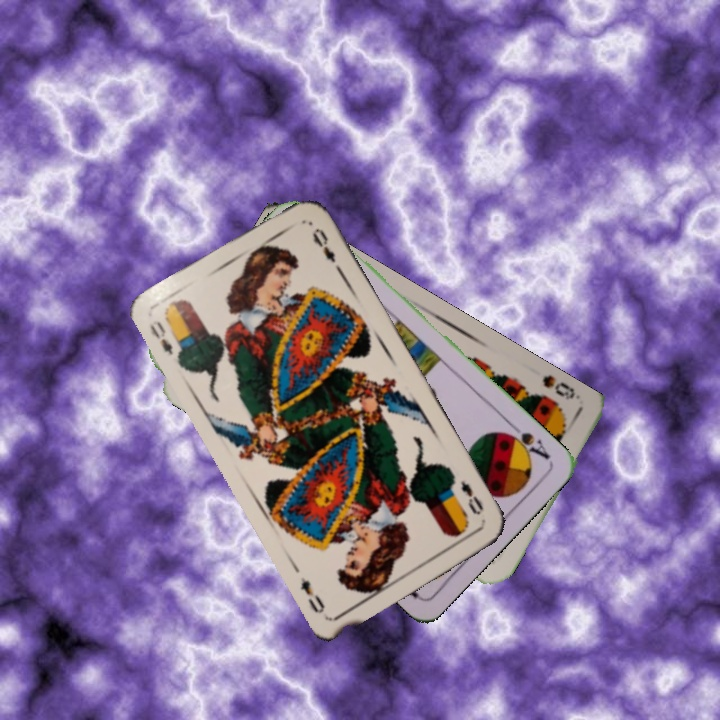EO: (456, 476, 487, 518), (146, 317, 176, 358)
S8: (538, 371, 583, 403)
SA: (498, 418, 553, 463)
